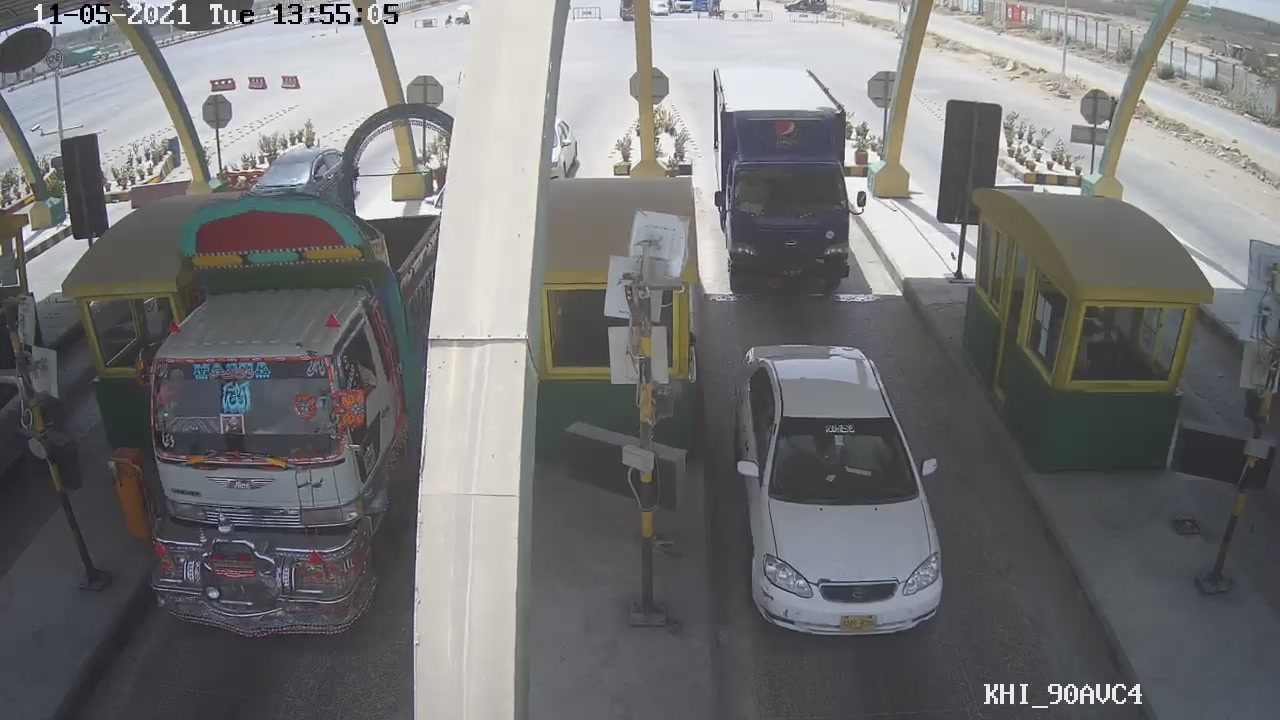F1: (732, 341, 949, 645)
F5: (704, 66, 866, 298)
